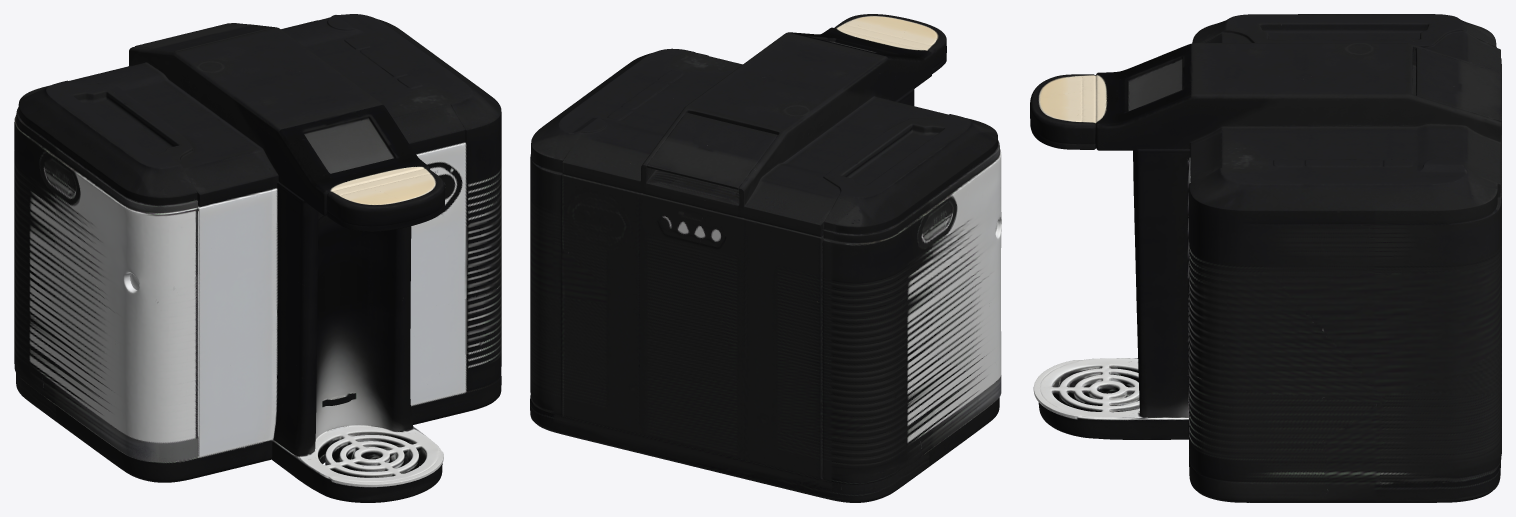
Rendered from Meshy_AI_LifeWave_X2_Water_Ion_0709155433_texture.glb.
3 views of the same model, side by side, from view 1: azimuth 30°, elevation 25°; view 2: azimuth 150°, elevation 25°; view 3: azimuth 270°, elevation 25° (orthographic). The views are drawn at different scales.
Size of the model in its own units: 1.81 by 1.52 by 1.9.
Materials: 1 (1 with a texture image).
